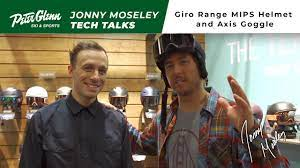helmets: (151, 33, 211, 82)
